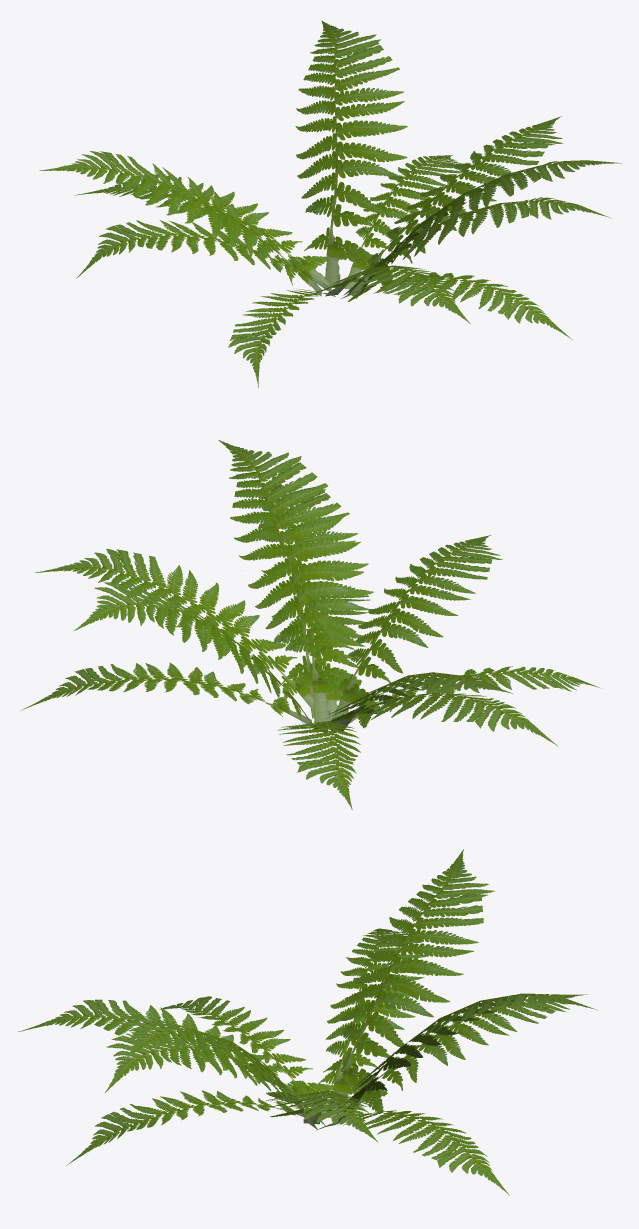
The model's file is DM.Bush.Fern.03.fbx.
The picture shows the model from 3 angles, top to bottom: view 1: azimuth 30°, elevation 25°; view 2: azimuth 150°, elevation 25°; view 3: azimuth 270°, elevation 25°; orthographic projection. The views are drawn at different scales.
Visible parts, largest first — view 1: Tree_0; view 2: Tree_0; view 3: Tree_0.
Part boxes in pixels (x1,y1,x2,y2): Tree_0: [39, 20, 622, 387]; Tree_0: [21, 440, 600, 810]; Tree_0: [18, 849, 598, 1195].
Bounding box in the file's own units: 198 × 59.49 × 186.
Materials: 1 (1 with a texture image).
